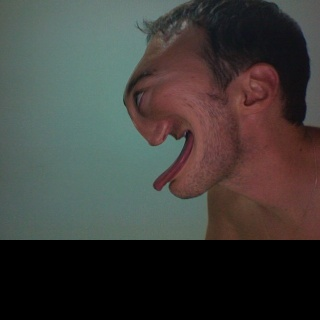without_mask: (122, 29, 235, 198)
